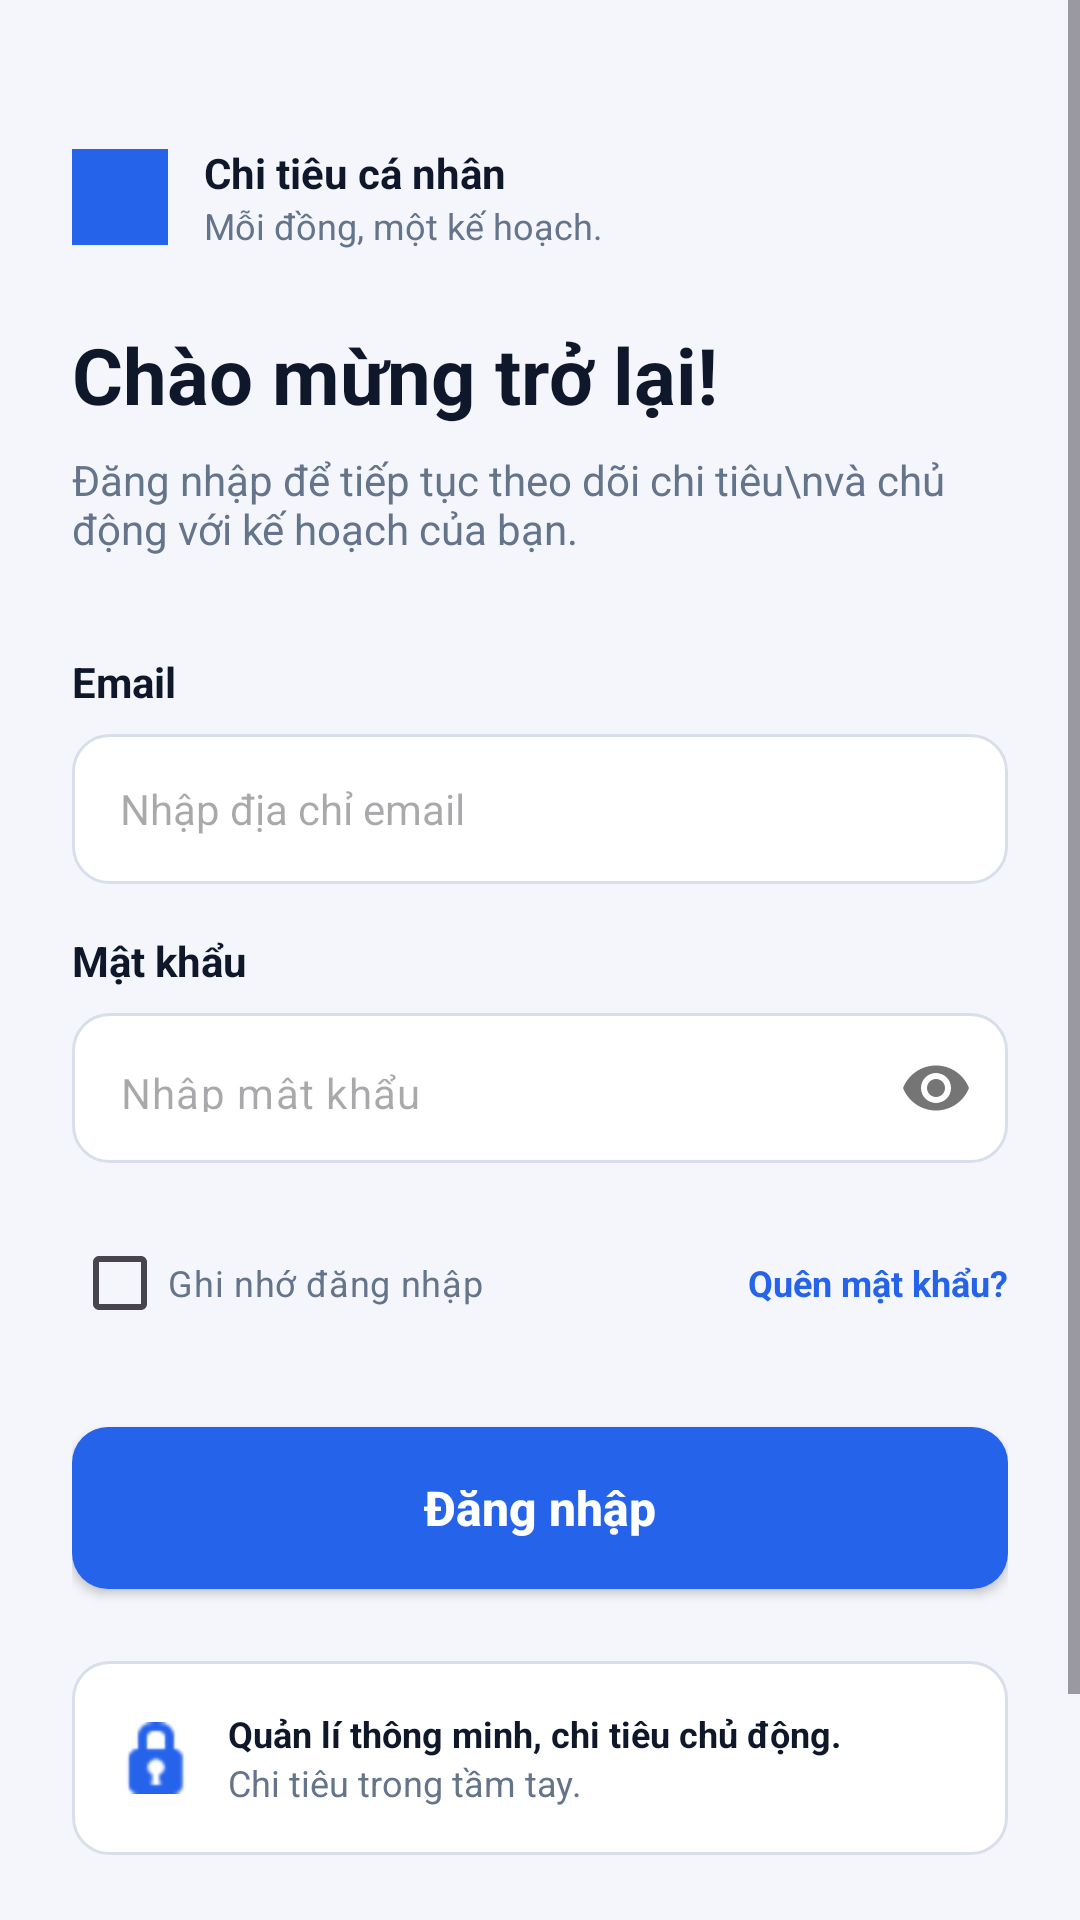

Where to tap for icons on this 1080 x 1920 app screen, as (x=x, y=y):
secure: (x=155, y=1758)
